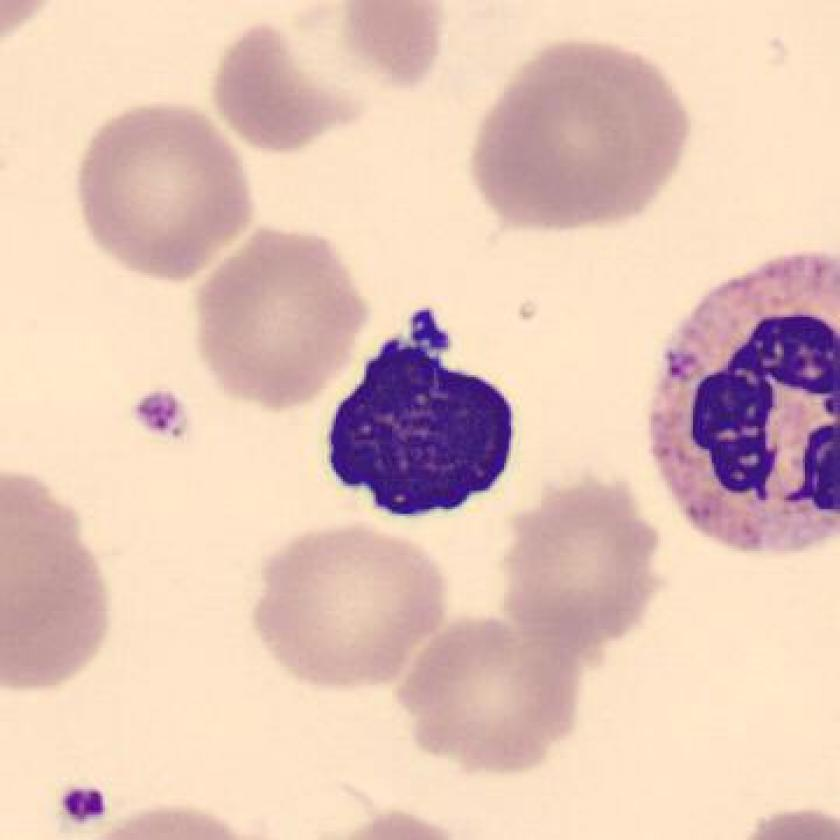lymphocyte: (316, 300, 531, 543)
neutrophil: (637, 243, 840, 568)
